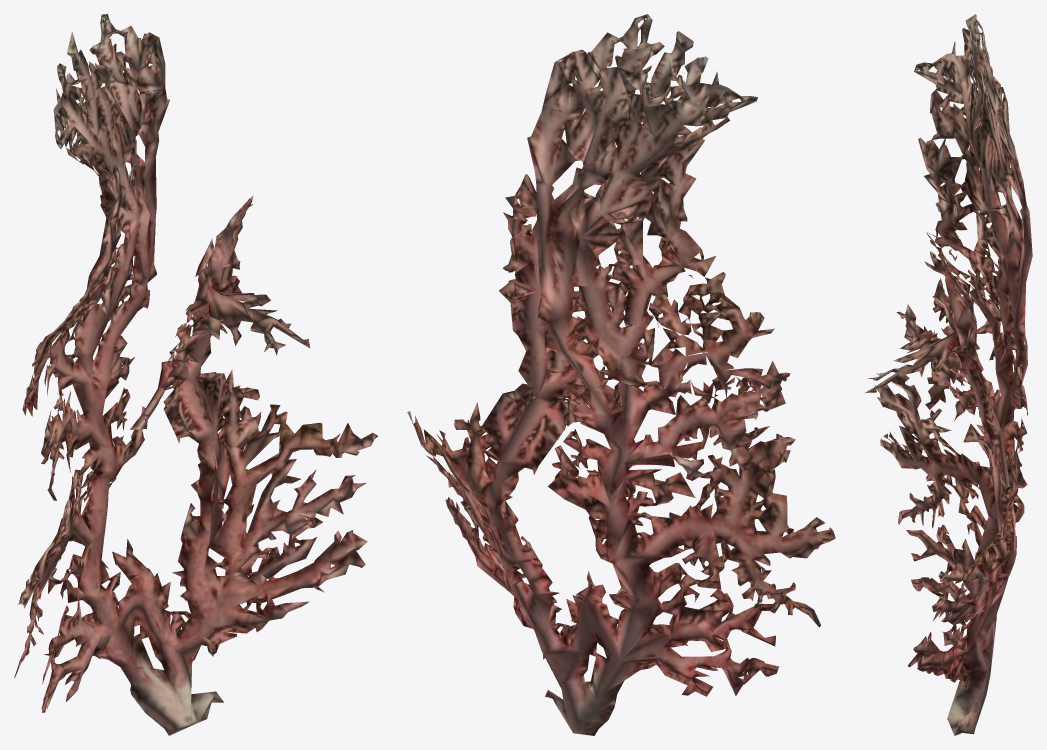
File: stylaster_coral.glb
3 renders of one model, left to right at view 1: azimuth 30°, elevation 25°; view 2: azimuth 150°, elevation 25°; view 3: azimuth 270°, elevation 25°, orthographic. The views are drawn at different scales.
Parts seen in each view (by area): view 1: Object_4, Object_5; view 2: Object_4, Object_5; view 3: Object_4, Object_5.
Boxes of the visible parts, left/top/right/bottom form: Object_4: left=14, top=14, right=377, bottom=735; Object_5: left=22, top=246, right=227, bottom=581; Object_4: left=407, top=14, right=835, bottom=735; Object_5: left=593, top=272, right=774, bottom=403; Object_4: left=864, top=14, right=1032, bottom=735; Object_5: left=889, top=232, right=985, bottom=444.
Bounding box in the file's own units: 0.0942 × 0.1682 × 0.0375.
1 material, 1 textured.
